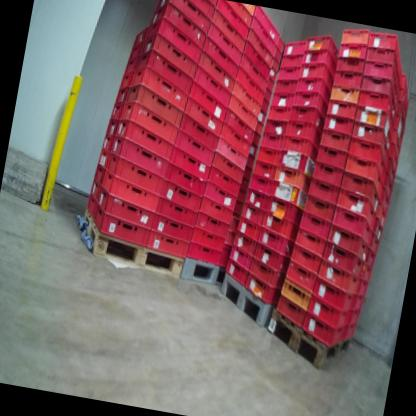pallet: (76, 206, 191, 277), (259, 302, 356, 373), (212, 271, 285, 335), (177, 253, 233, 292)
